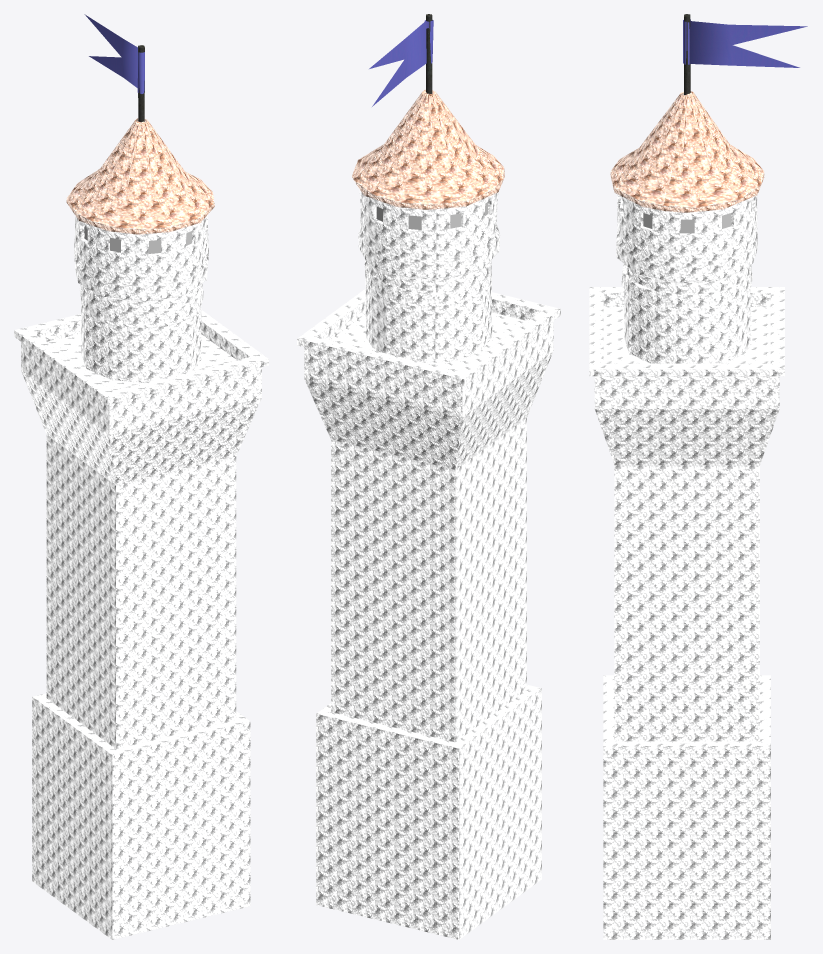
Rendered from SM_castle_tower_02.fbx.
3 renders of one model, left to right at view 1: azimuth 30°, elevation 25°; view 2: azimuth 150°, elevation 25°; view 3: azimuth 270°, elevation 25°, orthographic. The views are drawn at different scales.
Visible parts, largest first — view 1: SM_castle_tower_02_LOD0; view 2: SM_castle_tower_02_LOD0; view 3: SM_castle_tower_02_LOD0.
Boxes of the visible parts, <box> form: SM_castle_tower_02_LOD0: <box>14,14,268,939</box>; SM_castle_tower_02_LOD0: <box>297,14,560,939</box>; SM_castle_tower_02_LOD0: <box>589,14,807,939</box>.
Size of the model in its own units: 1753 by 1963 by 8782.
5 materials, 4 textured.
